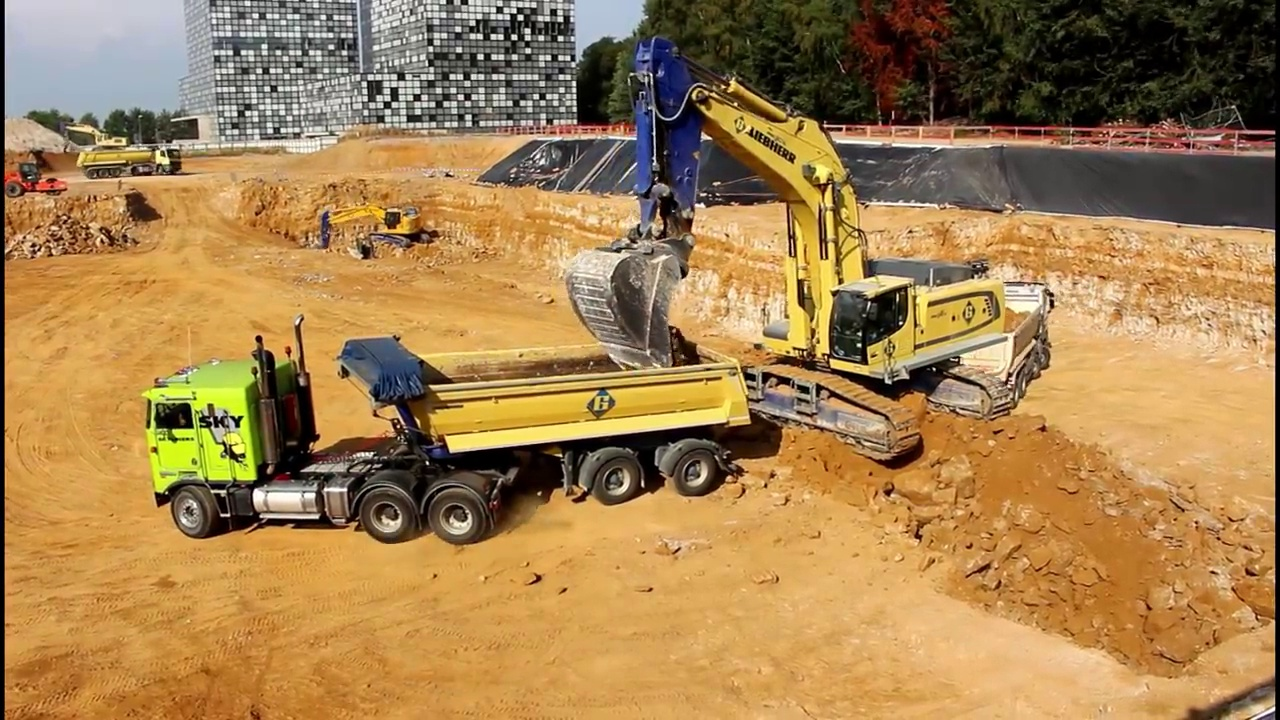compactor: (4, 162, 70, 203)
excavator: (560, 33, 1018, 469), (312, 200, 446, 264), (56, 119, 132, 154)
truck: (137, 307, 760, 554), (914, 265, 1066, 416), (80, 143, 187, 179)
